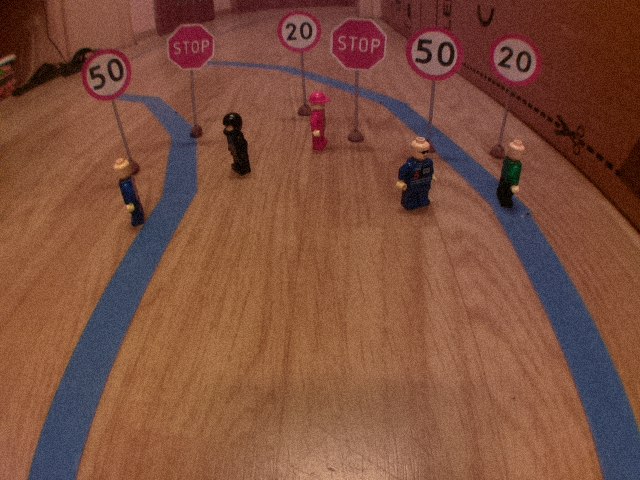LEGO_person: (393, 133, 442, 214), (110, 155, 153, 230), (496, 137, 530, 212), (306, 89, 334, 153)
ogr_20: (485, 31, 546, 91), (274, 8, 323, 55)
ogr_50: (401, 24, 468, 83), (79, 47, 136, 103)
stop: (327, 15, 392, 75), (163, 20, 218, 71)
